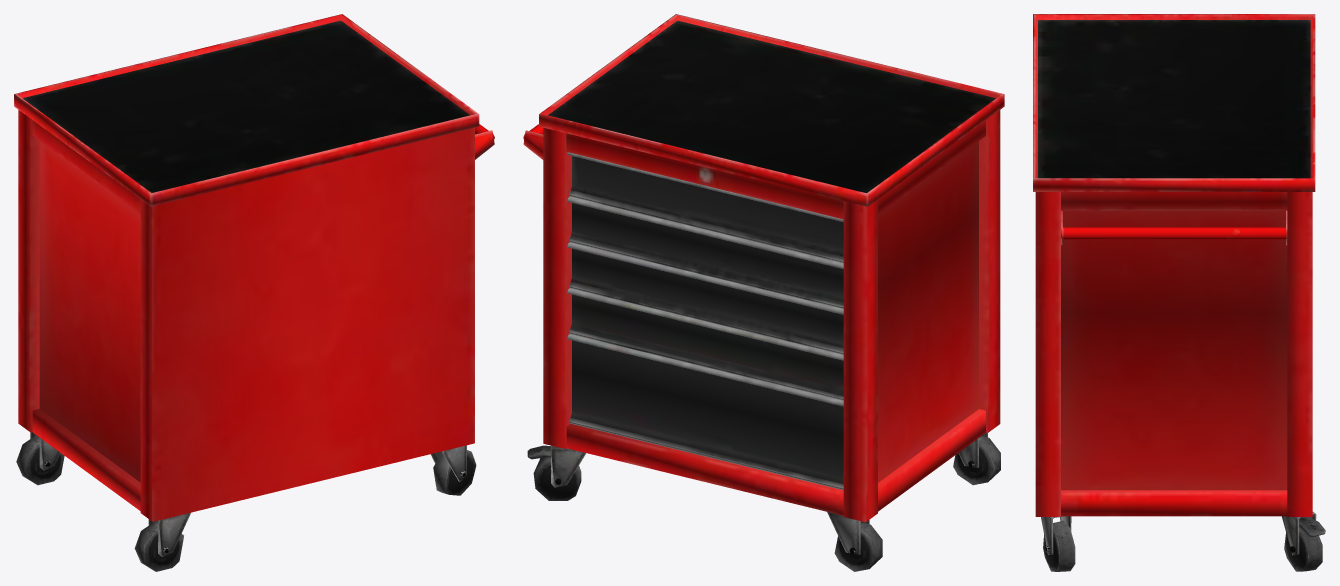
File: cart.glb
The picture shows the model from 3 angles, left to right: view 1: azimuth 30°, elevation 25°; view 2: azimuth 150°, elevation 25°; view 3: azimuth 270°, elevation 25°; orthographic projection. The views are drawn at different scales.
Size of the model in its own units: 39.73 by 40.53 by 27.05.
1 material, 1 textured.
